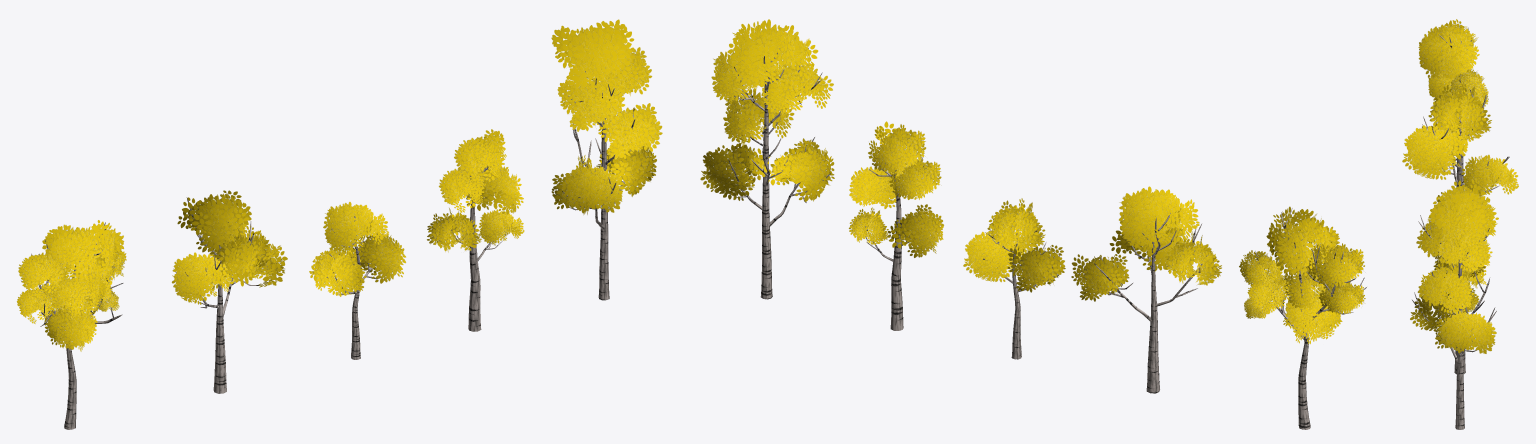
Rendered from NAT_Birch.glb.
3 views of the same model, side by side, from view 1: azimuth 30°, elevation 25°; view 2: azimuth 150°, elevation 25°; view 3: azimuth 270°, elevation 25° (orthographic). The views are drawn at different scales.
Visible parts, largest first — view 1: BirchTree_2, BirchTree_3, BirchTree_5, BirchTree_1, BirchTree_4; view 2: BirchTree_2, BirchTree_3, BirchTree_5, BirchTree_1, BirchTree_4; view 3: BirchTree_2, BirchTree_5, BirchTree_3, BirchTree_1.
Part boxes in pixels (left/top/right/bottom): BirchTree_2: left=551, top=19, right=662, bottom=300; BirchTree_3: left=17, top=220, right=126, bottom=429; BirchTree_5: left=171, top=190, right=287, bottom=393; BirchTree_1: left=427, top=129, right=524, bottom=331; BirchTree_4: left=309, top=201, right=406, bottom=359; BirchTree_2: left=700, top=19, right=834, bottom=299; BirchTree_3: left=1239, top=206, right=1366, bottom=429; BirchTree_5: left=1071, top=186, right=1221, bottom=393; BirchTree_1: left=848, top=121, right=943, bottom=330; BirchTree_4: left=963, top=198, right=1065, bottom=359; BirchTree_2: left=1410, top=178, right=1498, bottom=429; BirchTree_5: left=1402, top=81, right=1518, bottom=196; BirchTree_3: left=1418, top=19, right=1488, bottom=190; BirchTree_1: left=1425, top=201, right=1486, bottom=374.
Size of the model in its own units: 18.56 by 7.57 by 3.51.
2 materials, 2 textured.
